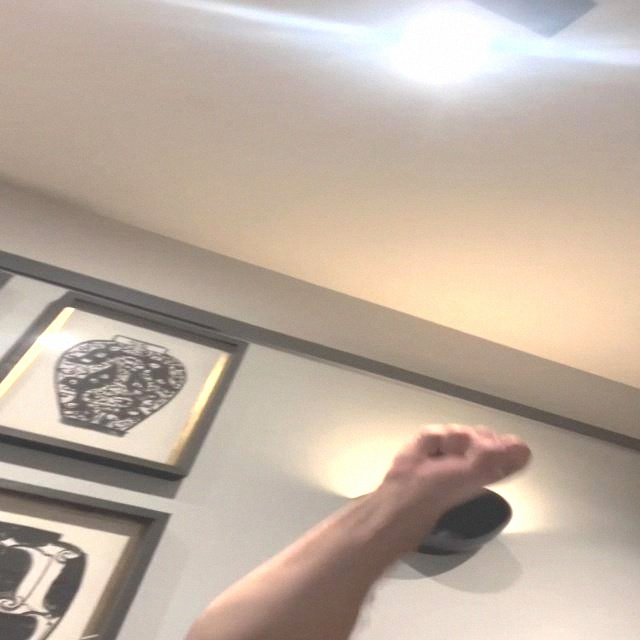Rock: (382, 424, 534, 500)
